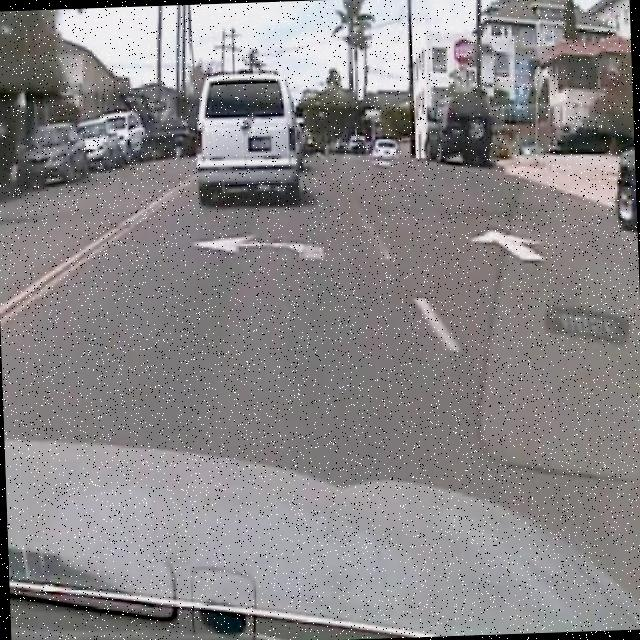Stop: (451, 34, 476, 67)
